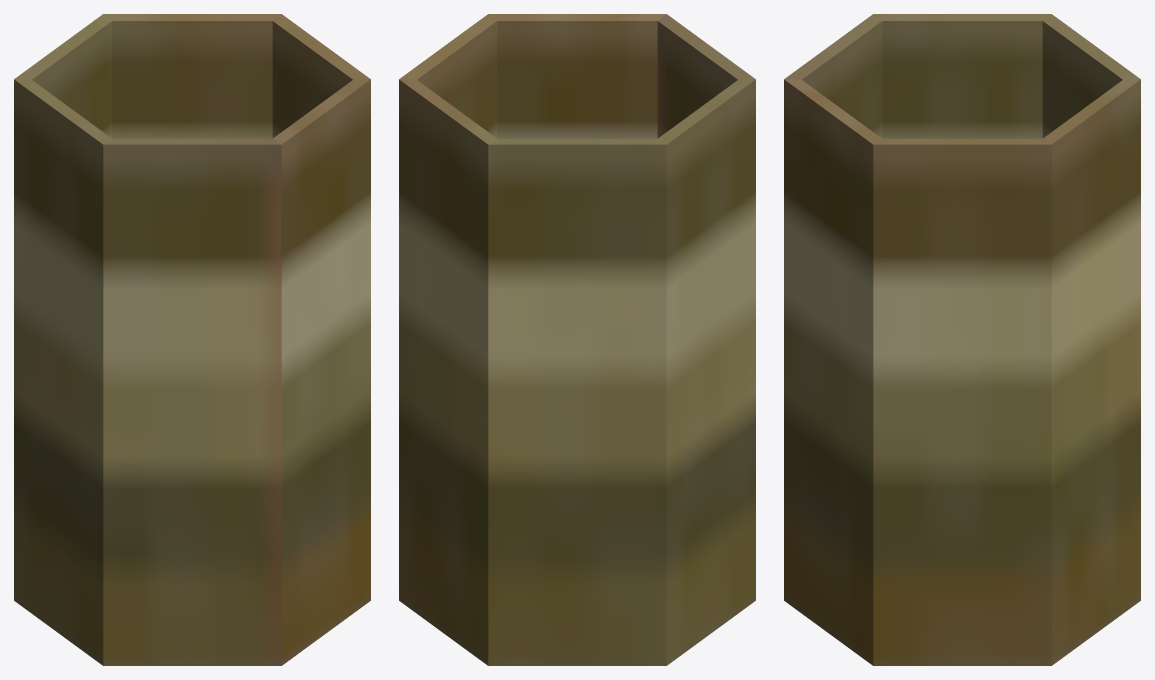
Rendered from german_130_bullet_shell.fbx.
3 renders of one model, left to right at view 1: azimuth 30°, elevation 25°; view 2: azimuth 150°, elevation 25°; view 3: azimuth 270°, elevation 25°, orthographic.
Parts seen in each view (by area): view 1: bullet_shell; view 2: bullet_shell; view 3: bullet_shell.
Part boxes in pixels (x1=…): bullet_shell: x1=14, y1=14, x2=370, y2=665; bullet_shell: x1=399, y1=14, x2=755, y2=665; bullet_shell: x1=784, y1=14, x2=1140, y2=665.
Size of the model in its own units: 0.00711 by 0.00821 by 0.0132.
